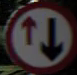Two way: (12, 8, 67, 60)
